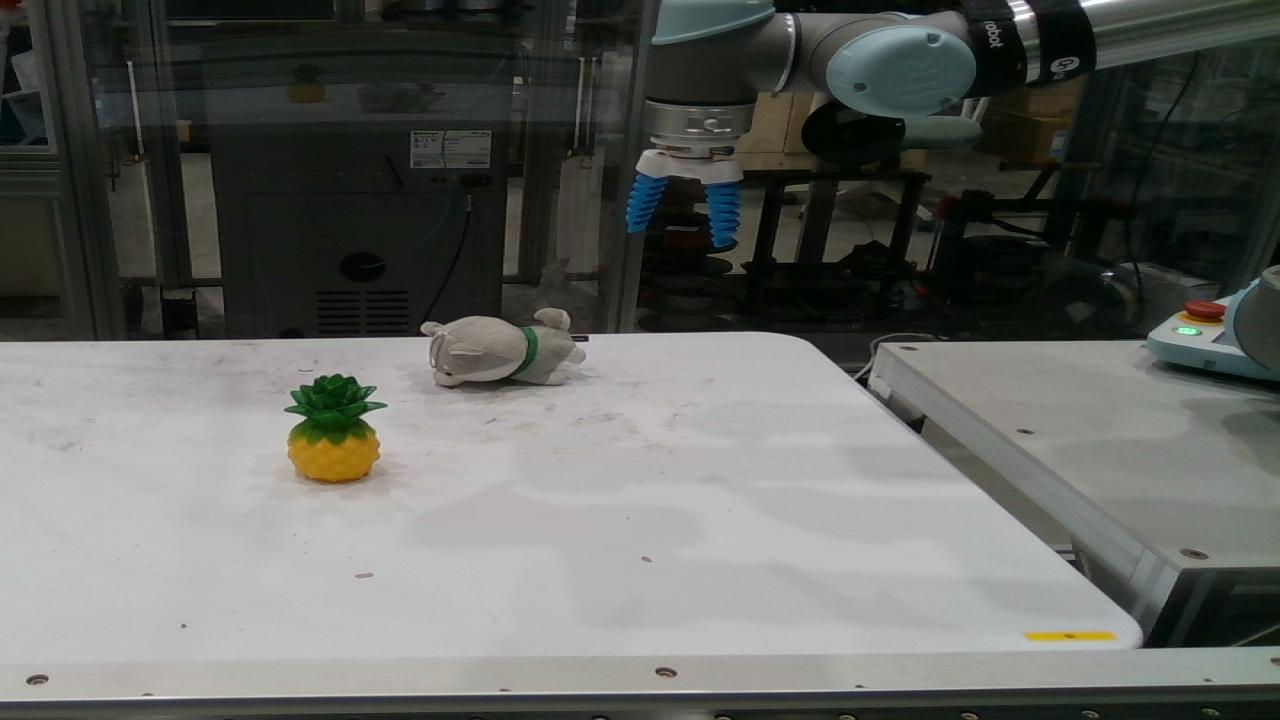UR5: (637, 0, 1279, 185), (1226, 264, 1279, 374)
gripper_left: (628, 173, 667, 232)
gripper_right: (706, 181, 739, 248)
target: (421, 308, 587, 388), (283, 373, 390, 482)
